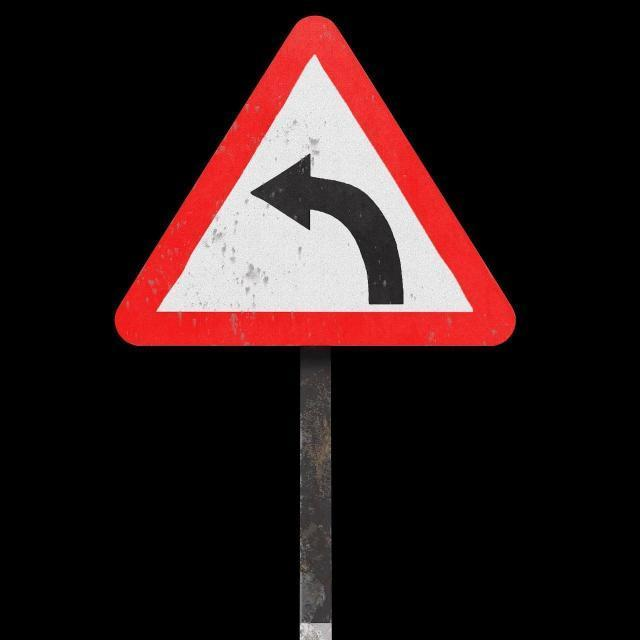left hand curve: (100, 10, 530, 350)
